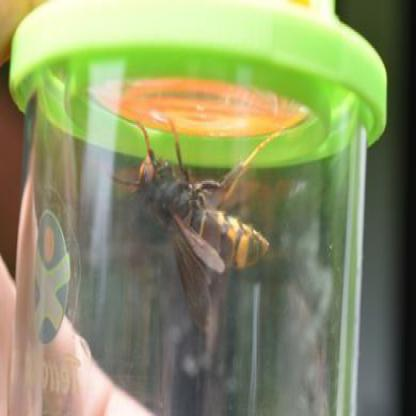Asian Hornet: (120, 101, 281, 325)
